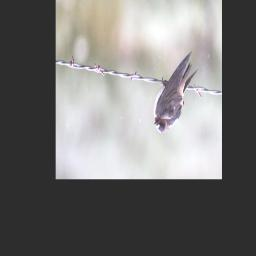Swallow: (153, 51, 199, 135)
